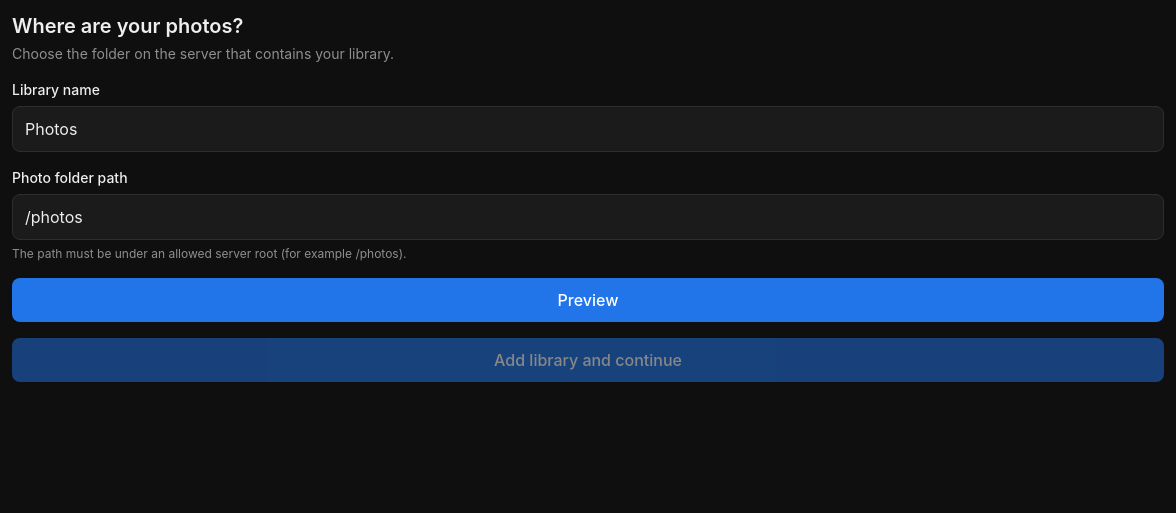
Test: LibraryStep › preview shows real counts
The width and height of the screenshot is (1176, 513).
Click the button "Preview" at (588, 300), box [12, 278, 1164, 322]
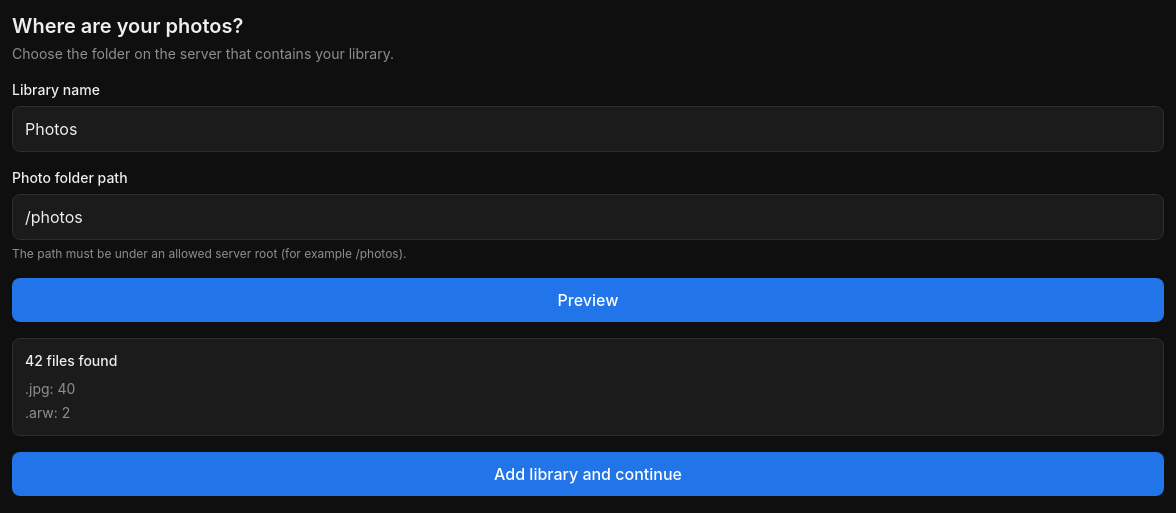
Expected: the text "42 files found" is shown, [25, 352, 117, 369]
Expected: the text ".jpg: 40" is shown, [25, 380, 75, 397]
Expected: the text ".arw: 2" is shown, [25, 404, 70, 421]
